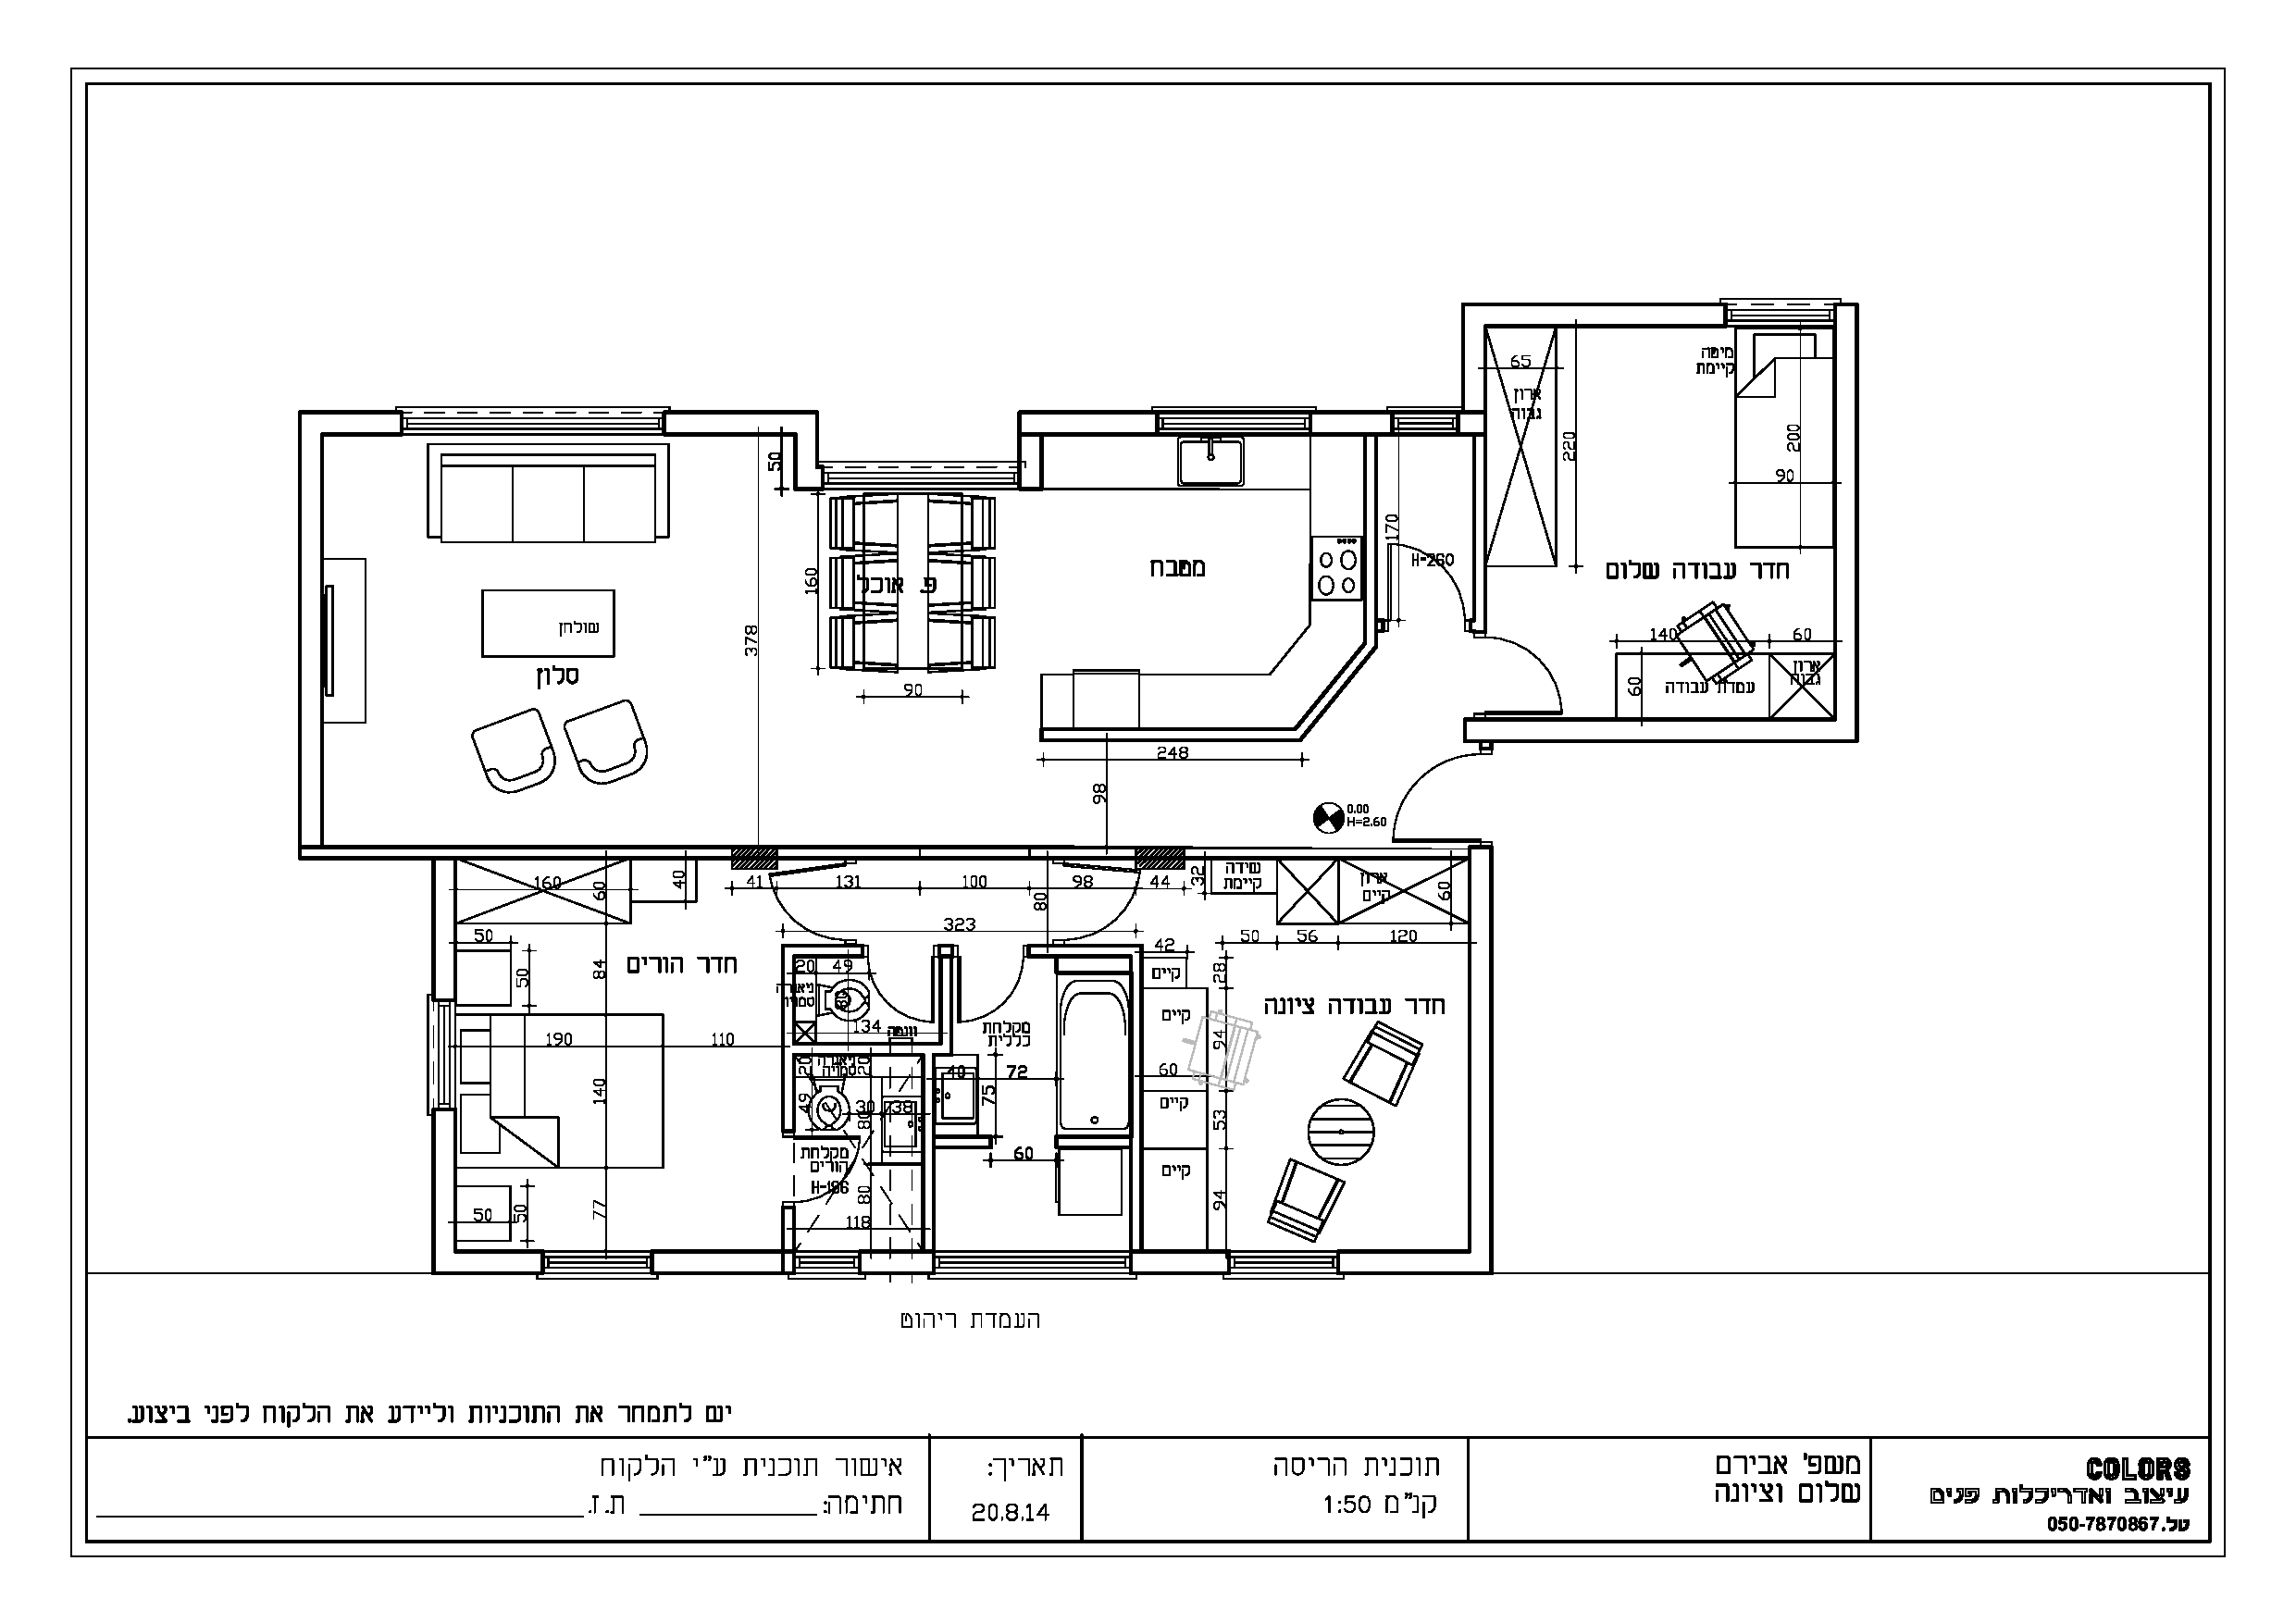door: (1490, 629, 1585, 713), (1390, 748, 1472, 838), (957, 968, 1035, 1021)
